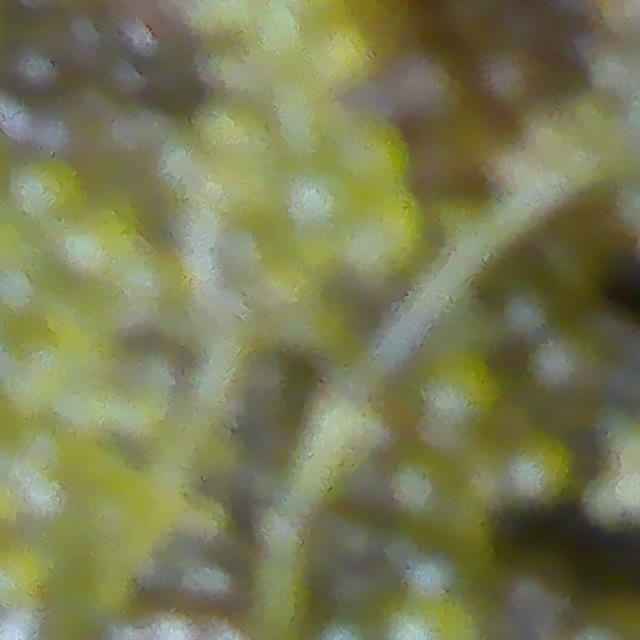SeaGrape: (415, 345, 507, 437), (278, 157, 360, 239), (8, 153, 88, 228), (503, 428, 576, 503)
